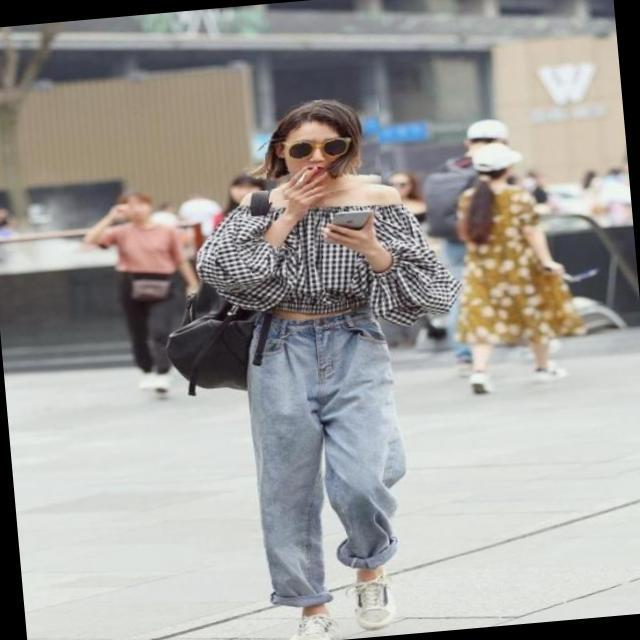cigarette: (293, 170, 323, 193)
